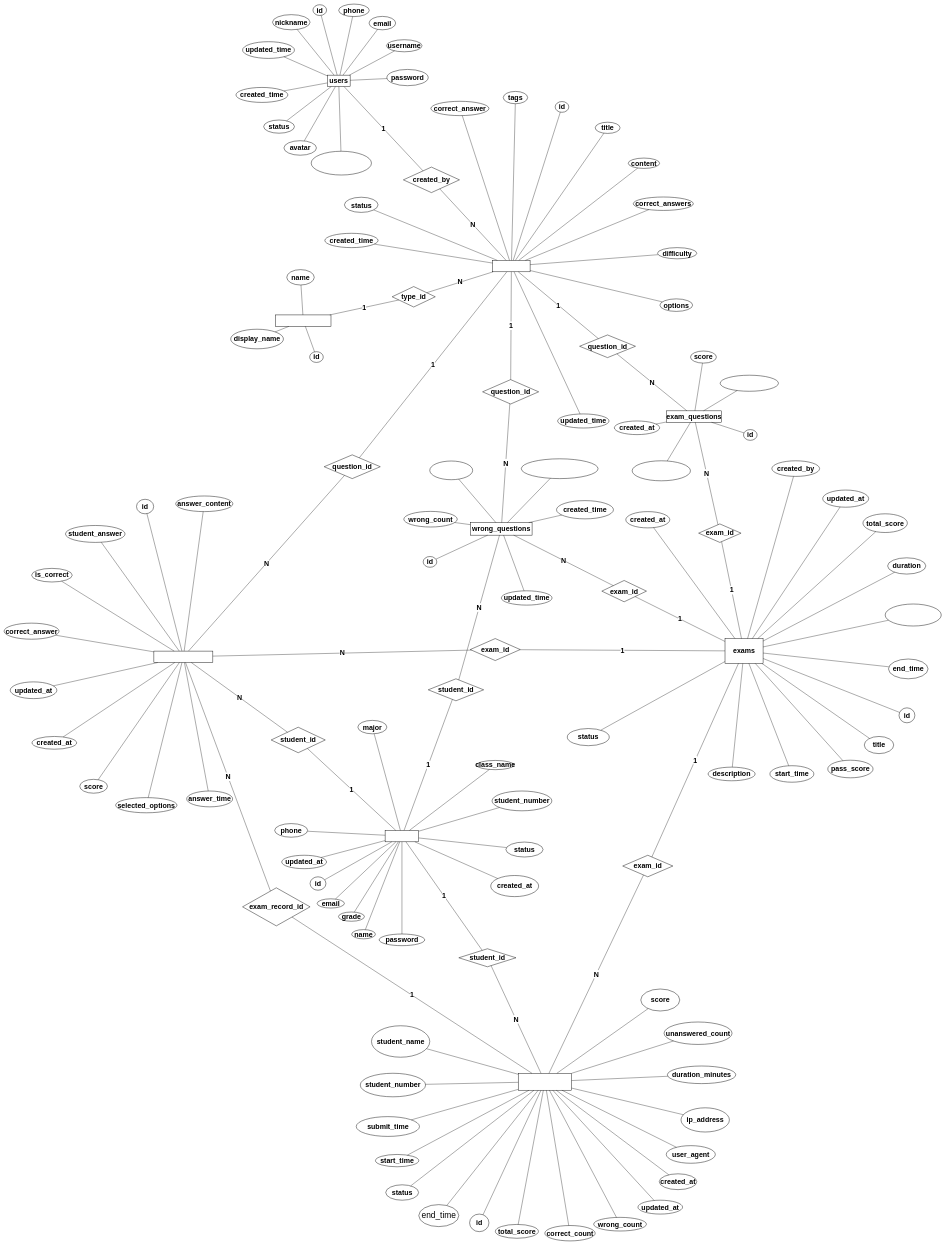
This 945x1245 diagram has some shape labels left out. Here are the shapes that lost their labels. From the top down, the centre of each, then its label:
At (341,163): "last_login_time".
At (511,266): "questions".
At (303,320): "question_types".
At (749,383): "question_order".
At (451,470): "mastered".
At (559,468): "last_wrong_answer".
At (661,470): "question_score".
At (913,615): "question_count".
At (183,657): "student_answers".
At (402,836): "students".
At (545,1081): "exam_records".
